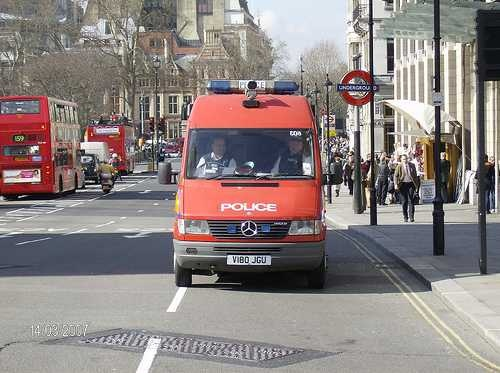Police Van: (177, 71, 334, 290)
